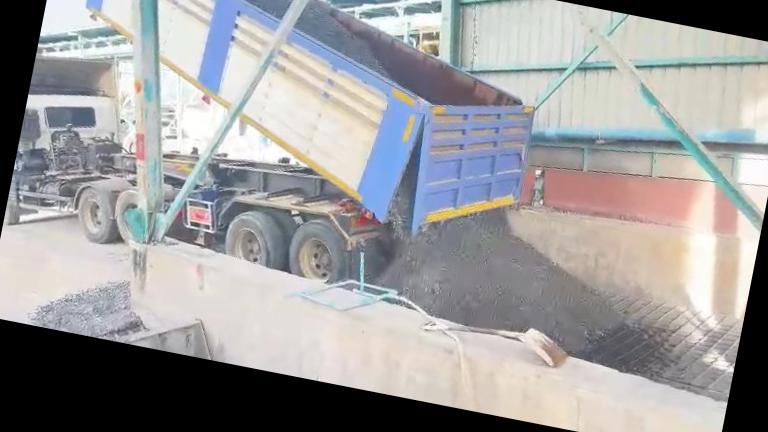gravel: (377, 151, 626, 356), (295, 0, 390, 78), (29, 281, 143, 342), (190, 0, 294, 18)
